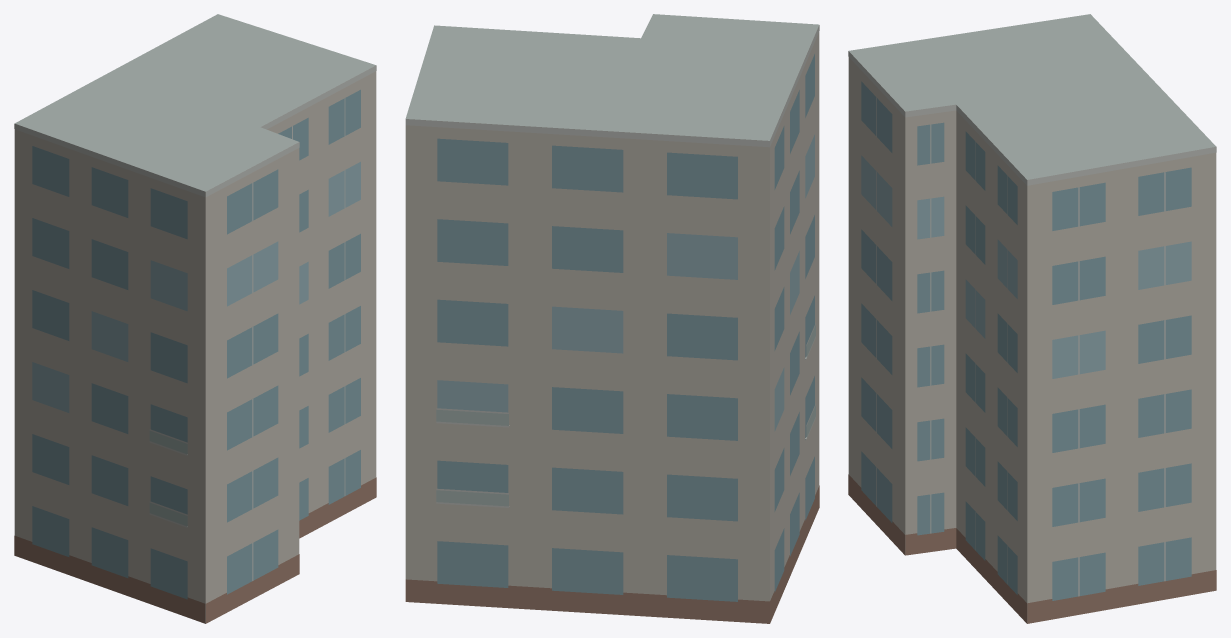
The model's file is survey-upis-33020553.glb.
3 views of the same model, side by side, from view 1: azimuth 30°, elevation 25°; view 2: azimuth 150°, elevation 25°; view 3: azimuth 270°, elevation 25° (orthographic). The views are drawn at different scales.
Visible parts, largest first — view 1: survey-upis-33020553.tmp; view 2: survey-upis-33020553.tmp; view 3: survey-upis-33020553.tmp.
Part boxes in pixels (x1=…): survey-upis-33020553.tmp: x1=14, y1=14, x2=376, y2=623; survey-upis-33020553.tmp: x1=405, y1=14, x2=819, y2=623; survey-upis-33020553.tmp: x1=848, y1=14, x2=1216, y2=623.
Bounding box in the file's own units: 14.93 × 18.6 × 13.98.
